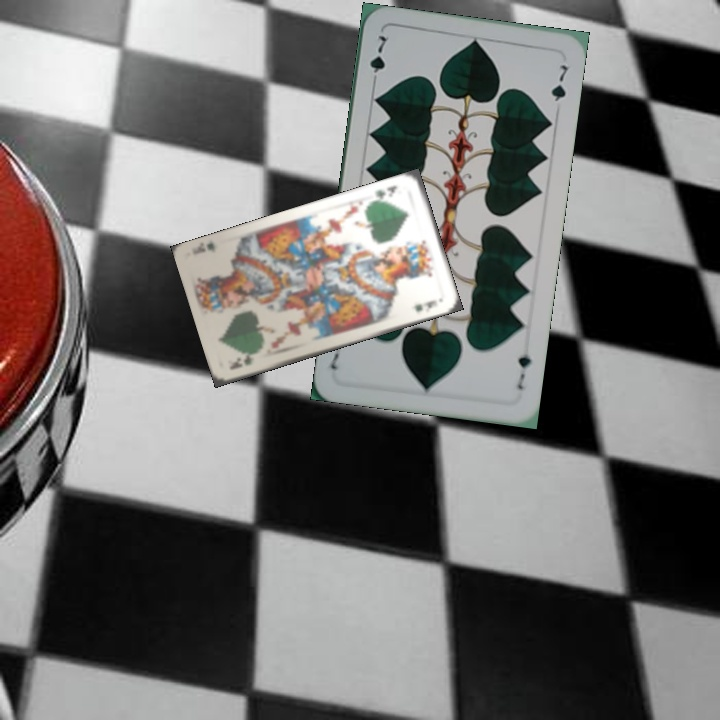G7: (365, 32, 392, 89), (513, 349, 534, 392)
GK: (369, 181, 400, 204), (225, 352, 256, 372)
